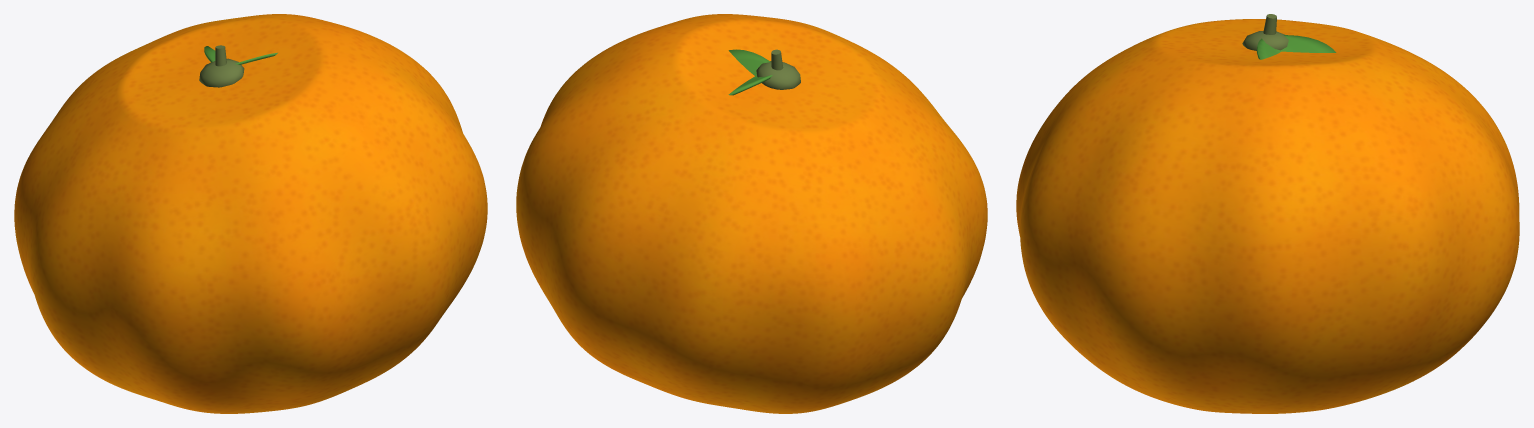
Rendered from mandarin.glb.
3 renders of one model, left to right at view 1: azimuth 30°, elevation 25°; view 2: azimuth 150°, elevation 25°; view 3: azimuth 270°, elevation 25°, orthographic. The views are drawn at different scales.
Parts seen in each view (by area): view 1: mandarin; view 2: mandarin; view 3: mandarin.
Part boxes in pixels (x1,y1,x2,y2): mandarin: (14,14,487,413); mandarin: (516,14,987,413); mandarin: (1016,14,1519,413).
Size of the model in its own units: 2 by 1.58 by 1.98.
Materials: 3 (1 with a texture image).
